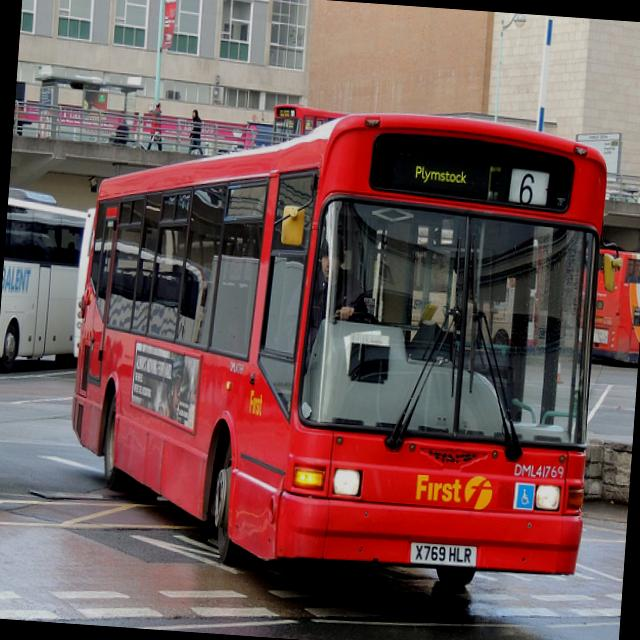Vehicle: (63, 92, 611, 586), (0, 198, 86, 376), (593, 248, 640, 366), (269, 101, 342, 150)
